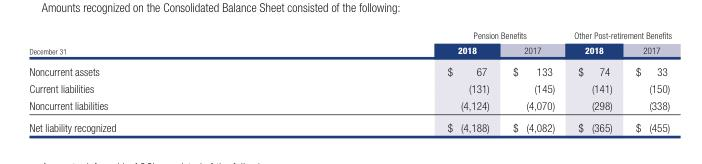table: (28, 29, 671, 133)
table column: (28, 29, 281, 133), (281, 29, 500, 133), (500, 29, 563, 133), (563, 29, 623, 133), (623, 29, 671, 133)
table column header: (28, 29, 671, 60)
table row: (28, 60, 671, 79), (28, 96, 671, 115), (28, 42, 671, 60), (28, 115, 671, 133), (28, 79, 671, 96), (28, 29, 671, 42)
table spanning cell: (28, 29, 281, 60), (281, 29, 563, 42), (563, 29, 671, 42)
